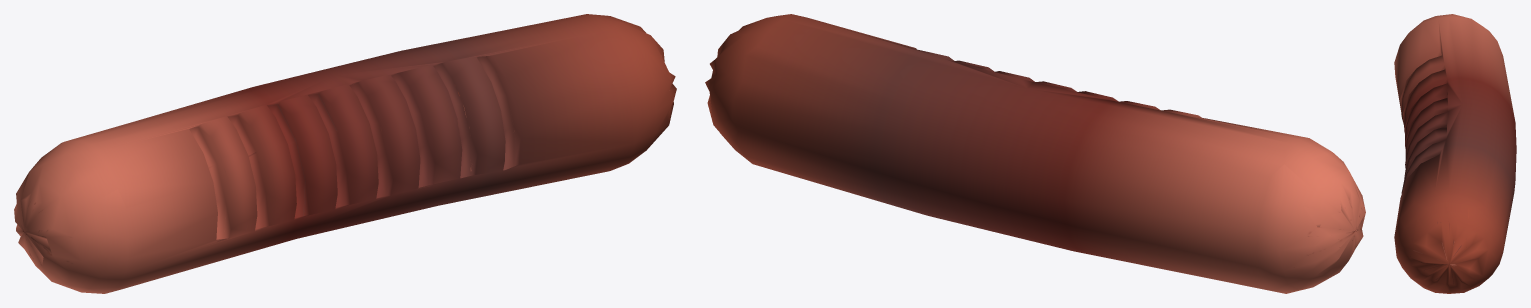
Rendered from HotDog3.fbx.
3 views of the same model, side by side, from view 1: azimuth 30°, elevation 25°; view 2: azimuth 150°, elevation 25°; view 3: azimuth 270°, elevation 25° (orthographic). The views are drawn at different scales.
Parts seen in each view (by area): view 1: sausage.002; view 2: sausage.002; view 3: sausage.002.
Boxes of the visible parts, x1,y1,x2,y2 form: sausage.002: (14,14,676,293); sausage.002: (705,14,1365,293); sausage.002: (1394,14,1516,293).
Bounding box in the file's own units: 14.72 × 3.15 × 3.47.
Materials: 1 (1 with a texture image).
